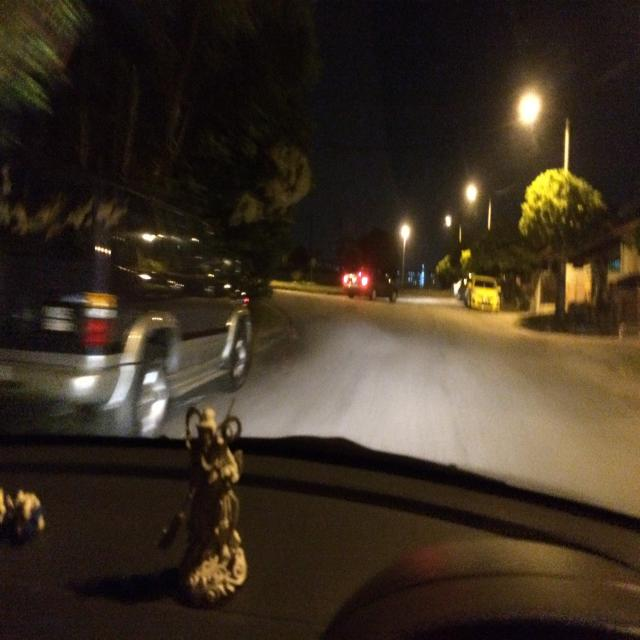Car: (3, 169, 254, 431)
